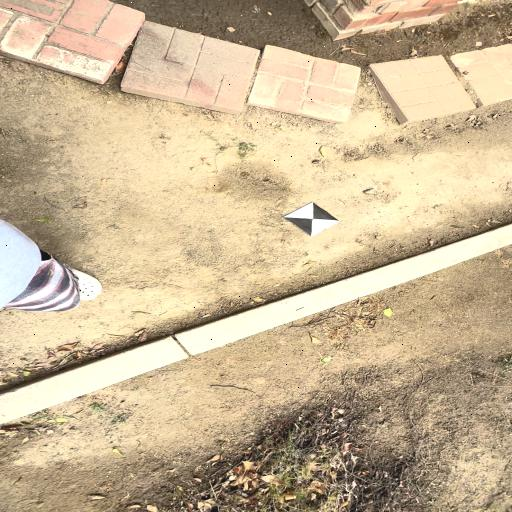target: (283, 202, 340, 236)
